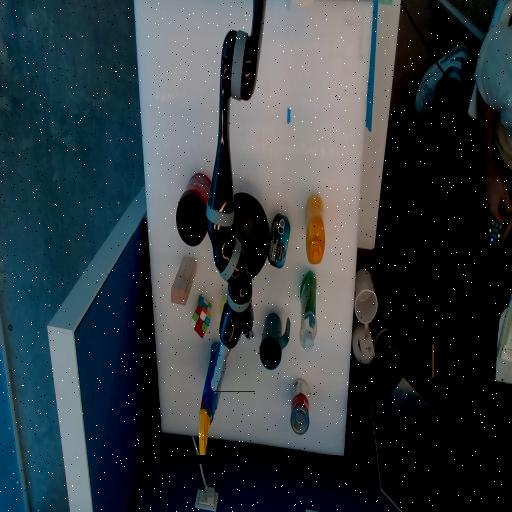bowl: (218, 194, 268, 280)
cleanser: (300, 271, 316, 350)
coffee_can: (175, 190, 214, 228)
jaco: (212, 303, 255, 392)
meat_can: (267, 229, 289, 251)
mug: (258, 326, 289, 356)
mustard_bottle: (306, 195, 324, 263)
rubik: (190, 295, 212, 338)
soup_can: (290, 379, 308, 434)
tennis_ball: (221, 294, 238, 324)
windex: (197, 394, 225, 416)
wooden_block: (170, 268, 195, 293)
workspace: (135, 3, 372, 455)
